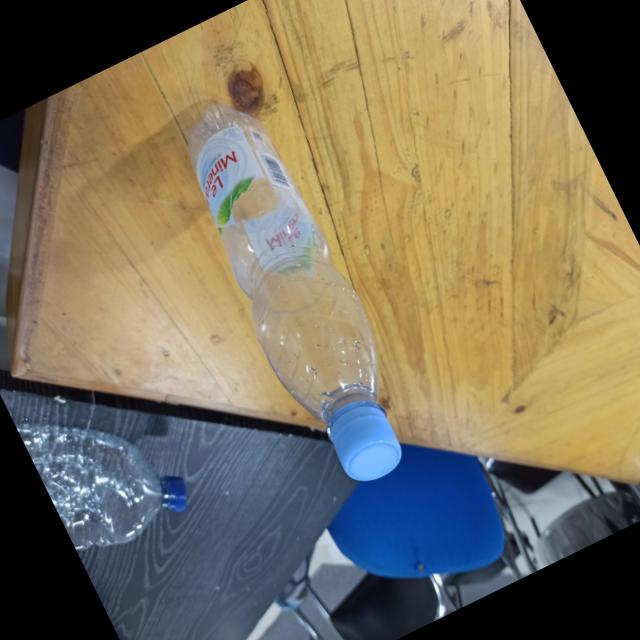BotolPlastik: (154, 81, 436, 501)
